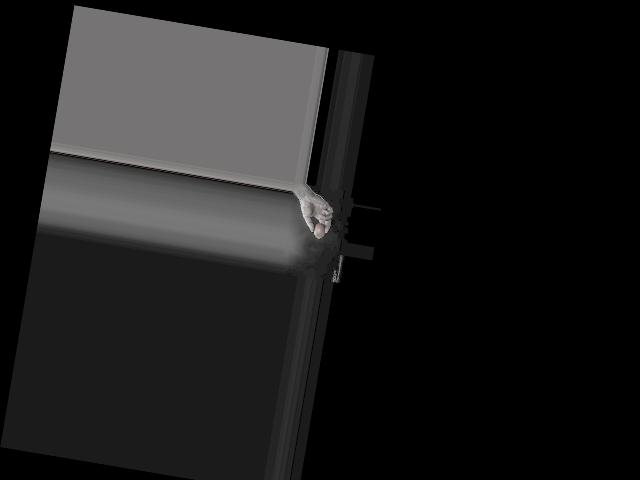egg: (312, 221, 326, 238)
